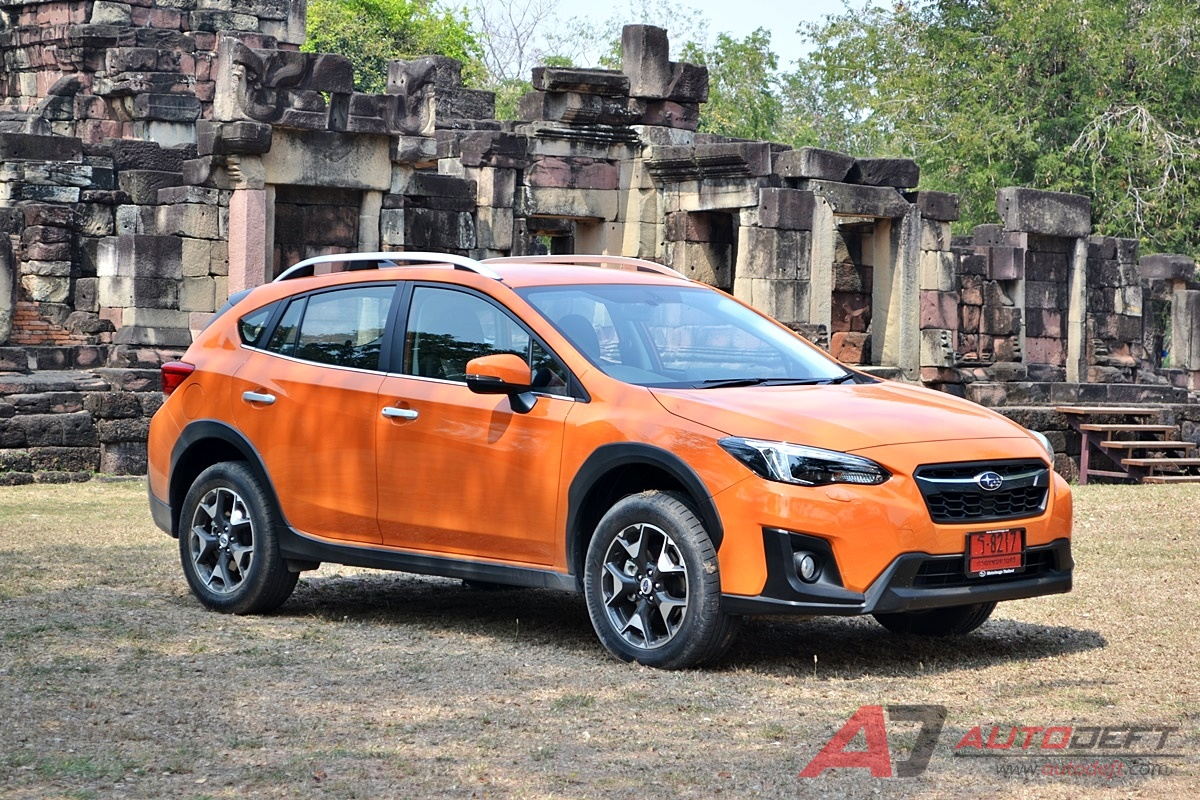pickup: (141, 245, 1086, 672)
